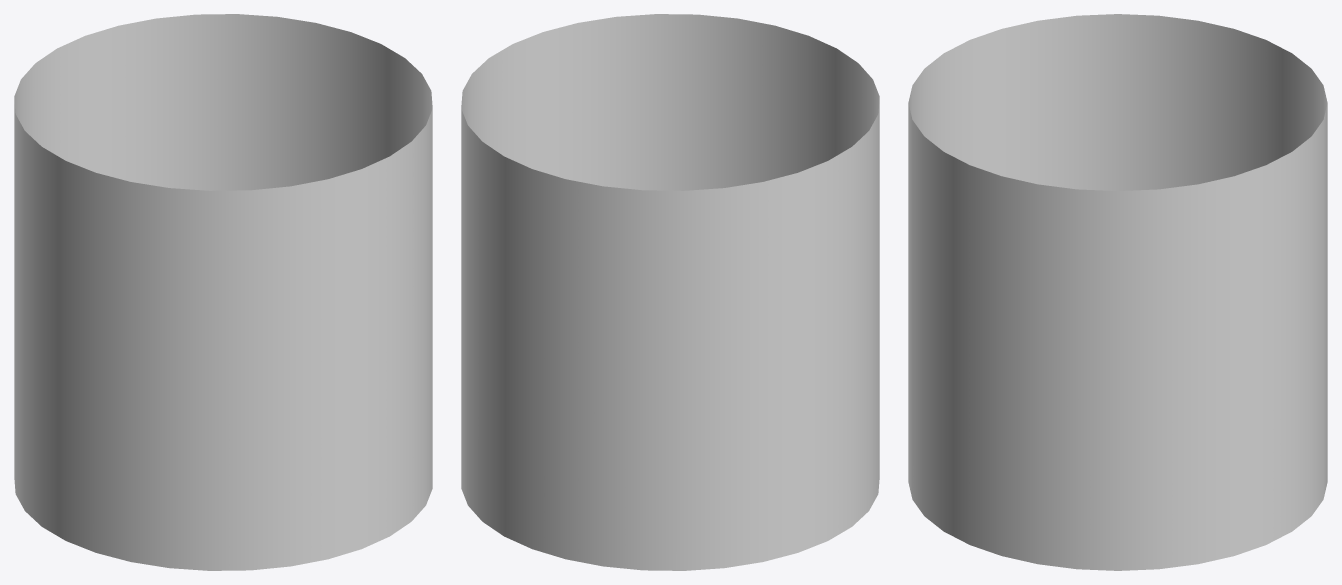
Rendered from player.obj.
3 renders of one model, left to right at view 1: azimuth 30°, elevation 25°; view 2: azimuth 150°, elevation 25°; view 3: azimuth 270°, elevation 25°, orthographic.
Visible parts, largest first — view 1: 円柱; view 2: 円柱; view 3: 円柱.
Part boxes in pixels (x1,y1,x2,y2): 円柱: (14,14,432,570); 円柱: (461,14,879,570); 円柱: (908,14,1327,570).
Bounding box in the file's own units: 2 × 2 × 2.
Materials: 1 (1 with a texture image).
